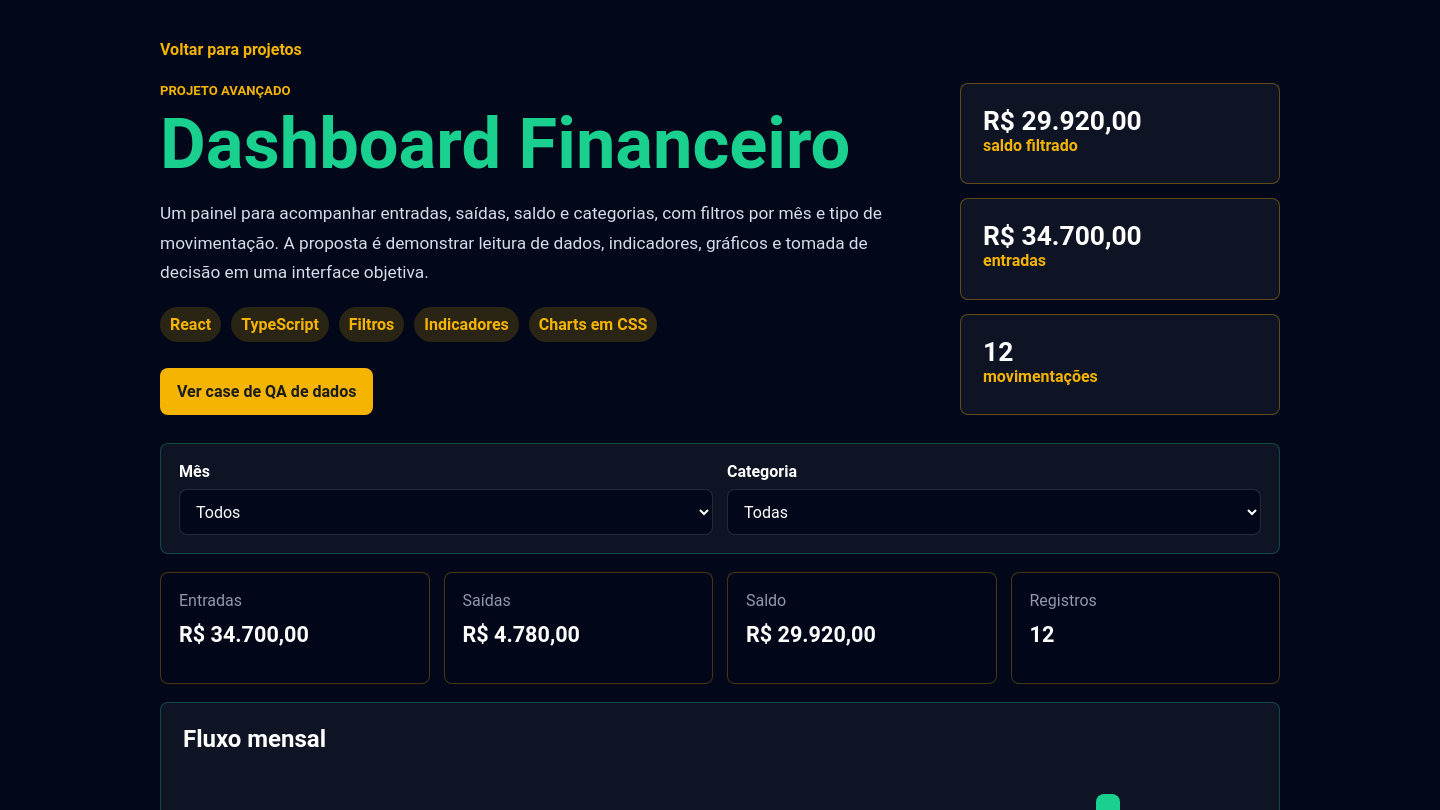
it: Projeto Dashboard Financeiro › filtra e reconcilia as movimentações de janeiro
Select "Janeiro" in the dropdown labelled "Mês" at (446, 512), box [179,489,713,535]
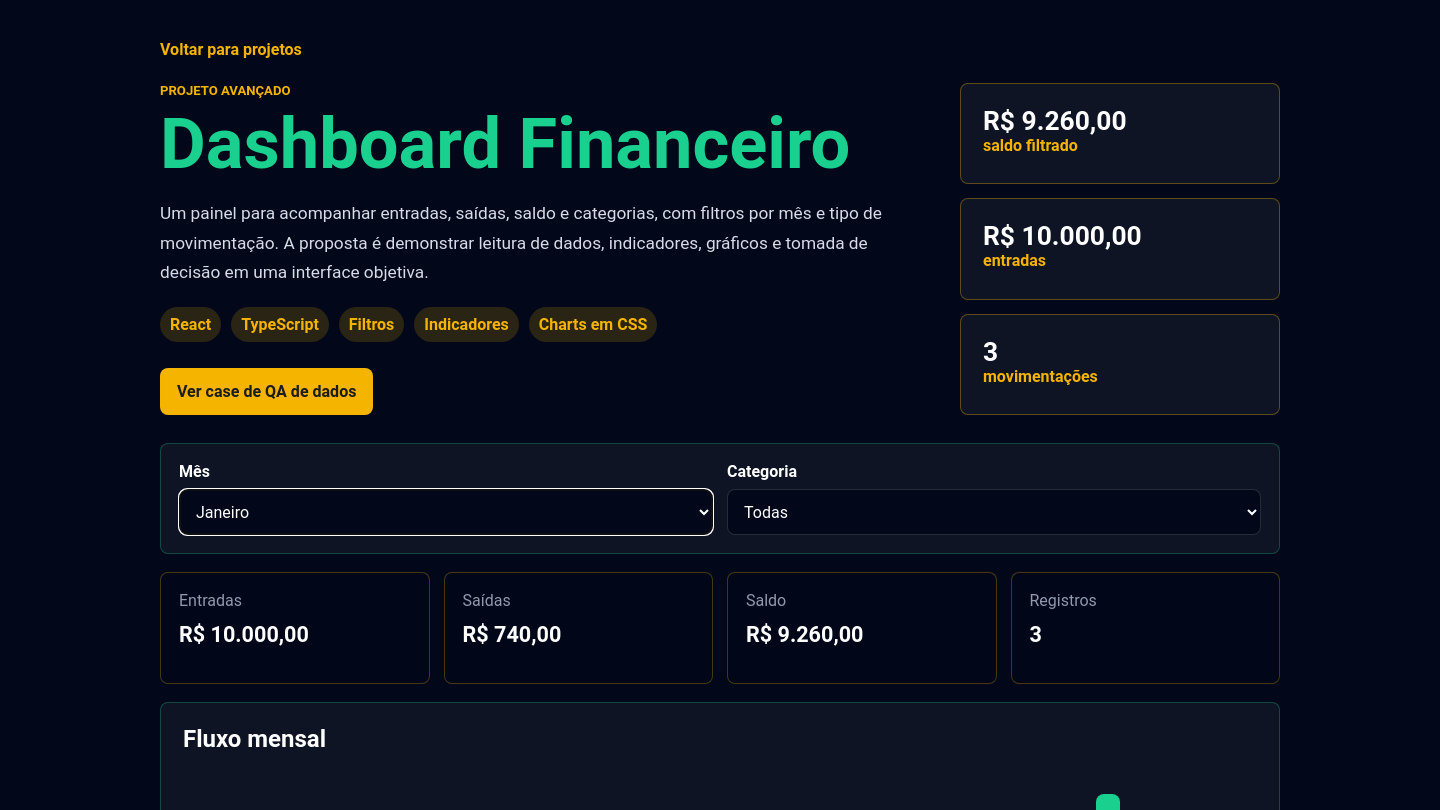
Expected: the 2nd text "R$ 10.000,00" is shown, [179,622,309,647]
Expected: the text "R$ 740,00" is shown, [462,622,561,647]
Expected: the 2nd text "R$ 9.260,00" is shown, [746,622,864,647]
